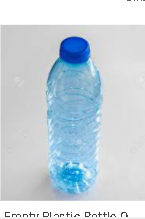Bottle: (50, 38, 102, 195)
